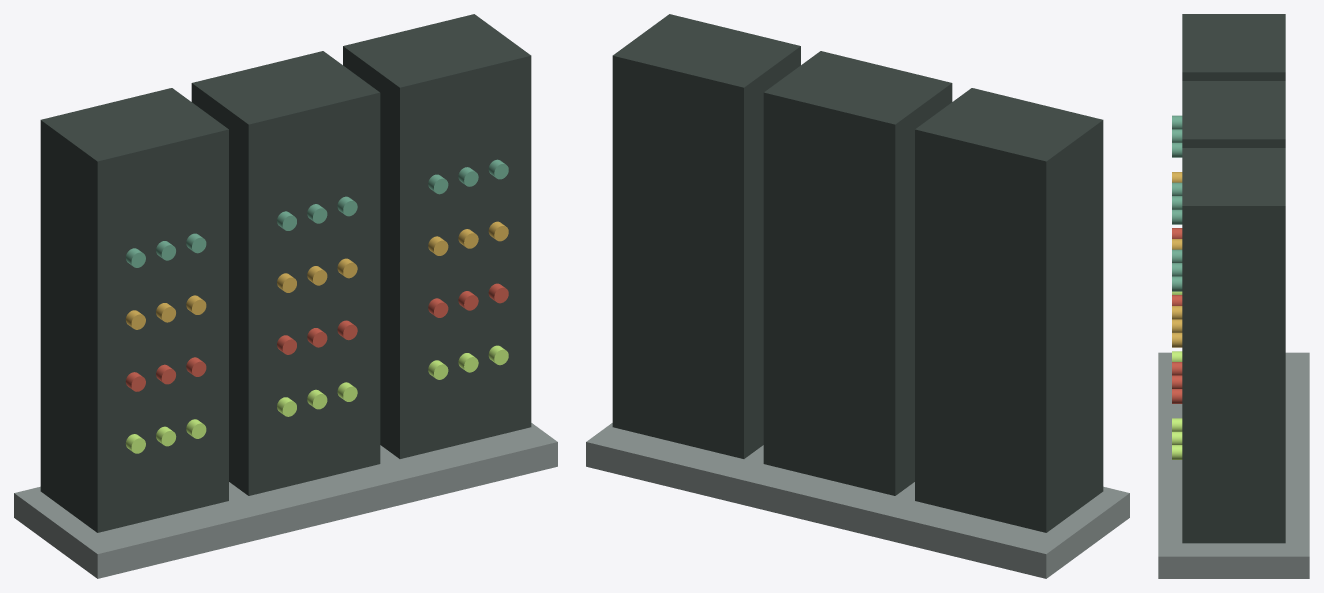
The model's file is eniac.glb.
3 views of the same model, side by side, from view 1: azimuth 30°, elevation 25°; view 2: azimuth 150°, elevation 25°; view 3: azimuth 270°, elevation 25° (orthographic). The views are drawn at different scales.
Size of the model in its own units: 3.5 by 2.94 by 1.1.
